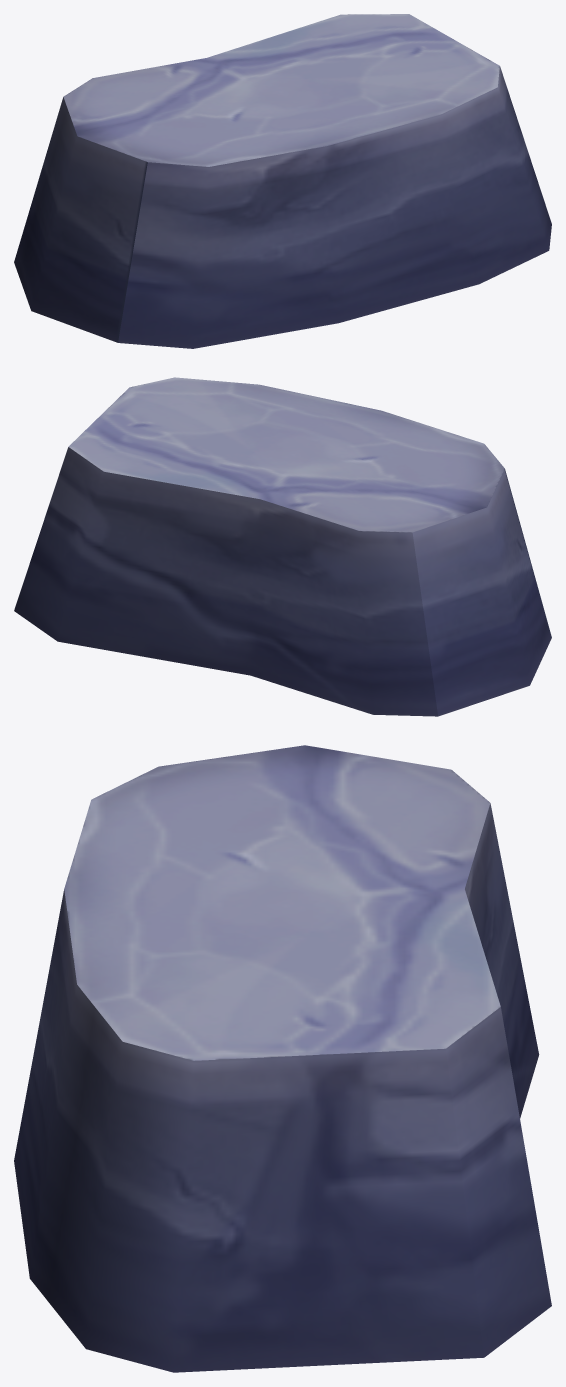
The model's file is Snake_stone_03.fbx.
The picture shows the model from 3 angles, top to bottom: view 1: azimuth 30°, elevation 25°; view 2: azimuth 150°, elevation 25°; view 3: azimuth 270°, elevation 25°; orthographic projection. The views are drawn at different scales.
Parts seen in each view (by area): view 1: Snake_stone_03; view 2: Snake_stone_03; view 3: Snake_stone_03.
Boxes of the visible parts, x1=… form: Snake_stone_03: x1=14, y1=14, x2=551, y2=348; Snake_stone_03: x1=14, y1=377, x2=551, y2=716; Snake_stone_03: x1=14, y1=745, x2=551, y2=1372.
Bounding box in the file's own units: 143 × 47.08 × 83.6.
